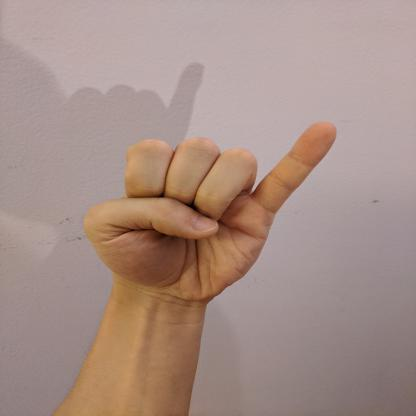I: (77, 117, 342, 307)
